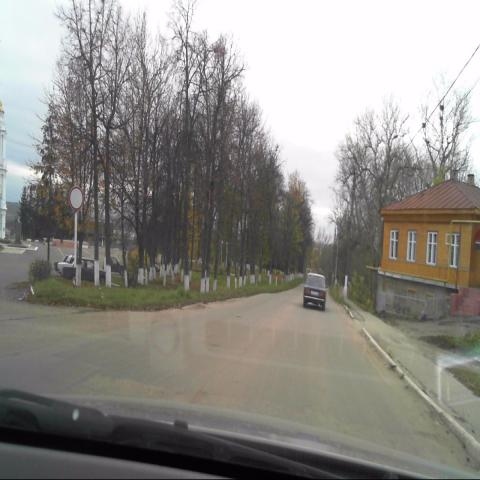3_2: (68, 185, 84, 211)
